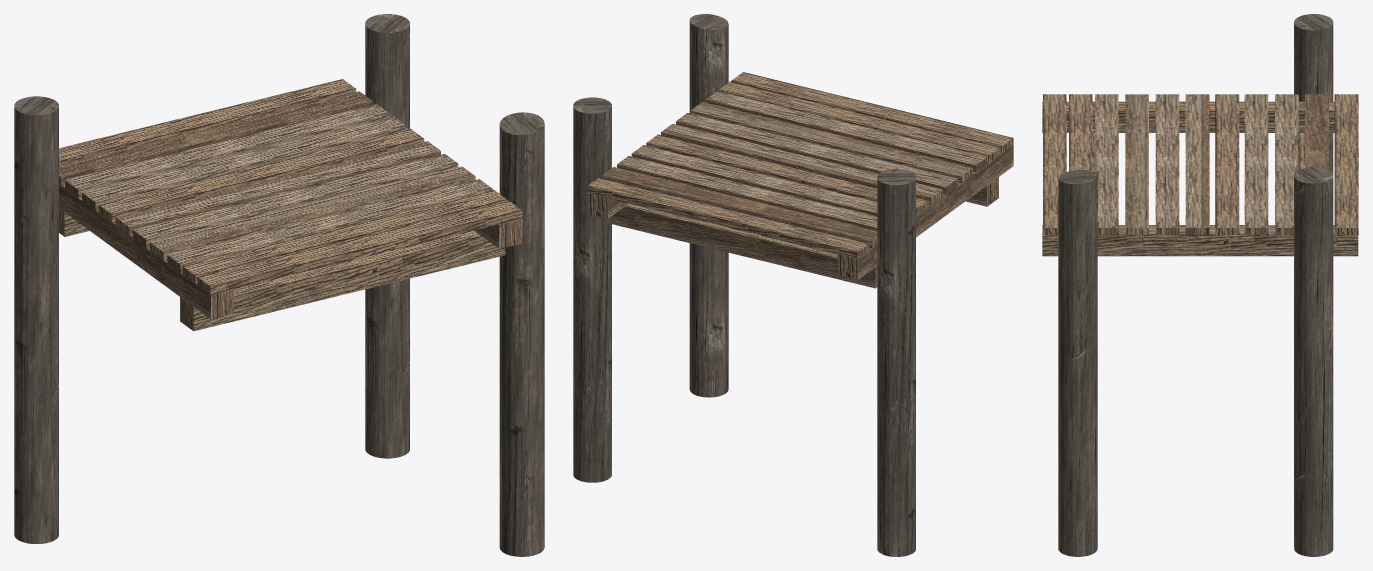
Rendered from Plataforma maderas v1.fbx.
3 renders of one model, left to right at view 1: azimuth 30°, elevation 25°; view 2: azimuth 150°, elevation 25°; view 3: azimuth 270°, elevation 25°, orthographic. The views are drawn at different scales.
Visible parts, largest first — view 1: Plataforma Tablas, Columnas, Columna, Viga; view 2: Plataforma Tablas, Columnas, Columna; view 3: Plataforma Tablas, Columnas, Columna.
Part boxes in pixels (x1,y1,x2,y2): Plataforma Tablas: [59, 79, 522, 319]; Columnas: [14, 14, 409, 543]; Columna: [499, 112, 544, 556]; Viga: [180, 230, 505, 331]; Plataforma Tablas: [587, 72, 1013, 280]; Columnas: [573, 97, 915, 556]; Columna: [689, 14, 728, 397]; Plataforma Tablas: [1042, 94, 1358, 256]; Columnas: [1294, 14, 1333, 556]; Columna: [1058, 170, 1097, 556].
Bounding box in the file's own units: 500 × 525 × 400.
Materials: 2 (2 with a texture image).
